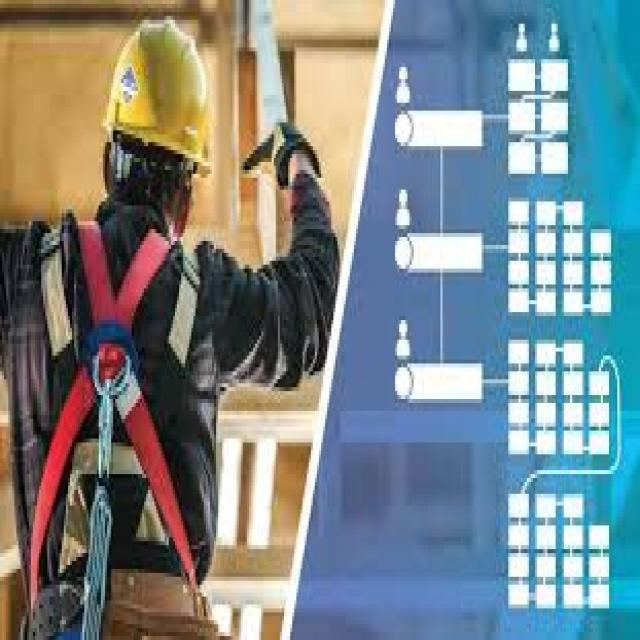Reflective-Jacket: (6, 202, 218, 624)
Safety-Helmet: (95, 12, 220, 186)
